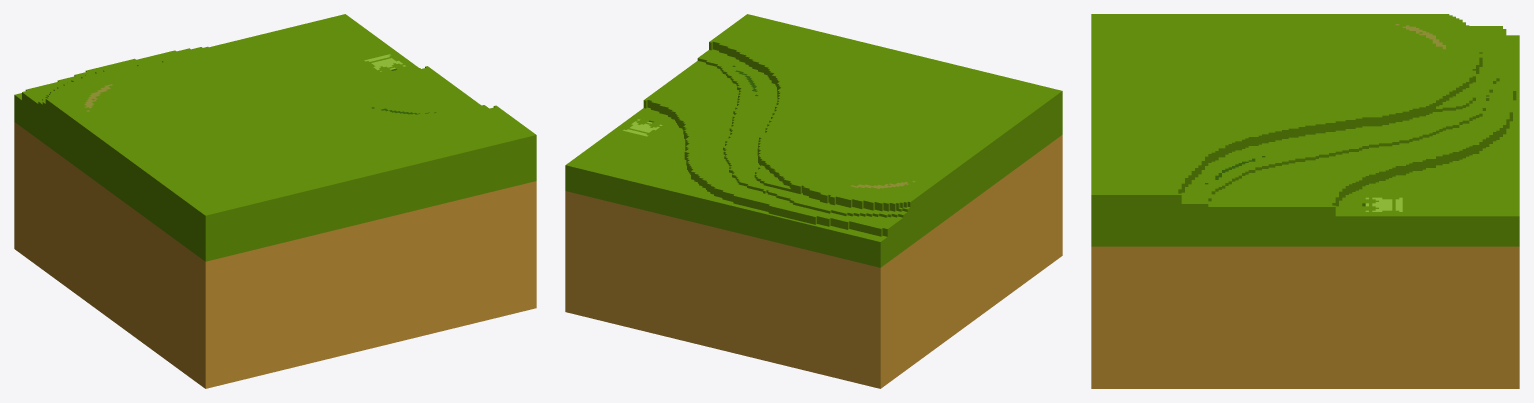
3 renders of one model, left to right at view 1: azimuth 30°, elevation 25°; view 2: azimuth 150°, elevation 25°; view 3: azimuth 270°, elevation 25°, orthographic. The views are drawn at different scales.
Visible parts, largest first — view 1: 14F; view 2: 14F; view 3: 14F.
Part boxes in pixels (left/top/right/bottom): 14F: left=14, top=14, right=536, bottom=388; 14F: left=565, top=14, right=1062, bottom=388; 14F: left=1091, top=14, right=1519, bottom=388.
Bounding box in the file's own units: 12.8 × 6.4 × 12.8.
1 material, 1 textured.
